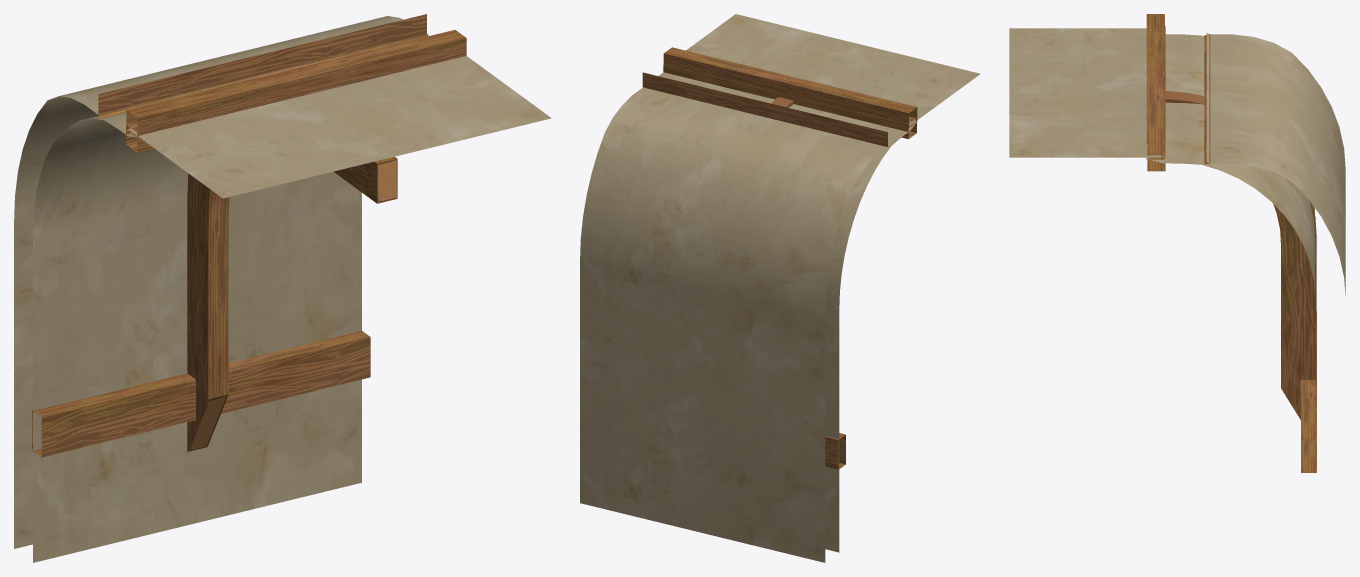
Rendered from Overhang_Plaster_Long.glb.
The picture shows the model from 3 angles, left to right: view 1: azimuth 30°, elevation 25°; view 2: azimuth 150°, elevation 25°; view 3: azimuth 270°, elevation 25°; orthographic projection. The views are drawn at different scales.
Parts seen in each view (by area): view 1: Overhang_Plaster_Long; view 2: Overhang_Plaster_Long; view 3: Overhang_Plaster_Long.
Part boxes in pixels (x1,y1,x2,y2): Overhang_Plaster_Long: (14, 14, 551, 562); Overhang_Plaster_Long: (580, 14, 980, 562); Overhang_Plaster_Long: (1009, 14, 1345, 472).
Bounding box in the file's own units: 2 × 3.03 × 2.2.
2 materials, 2 textured.
